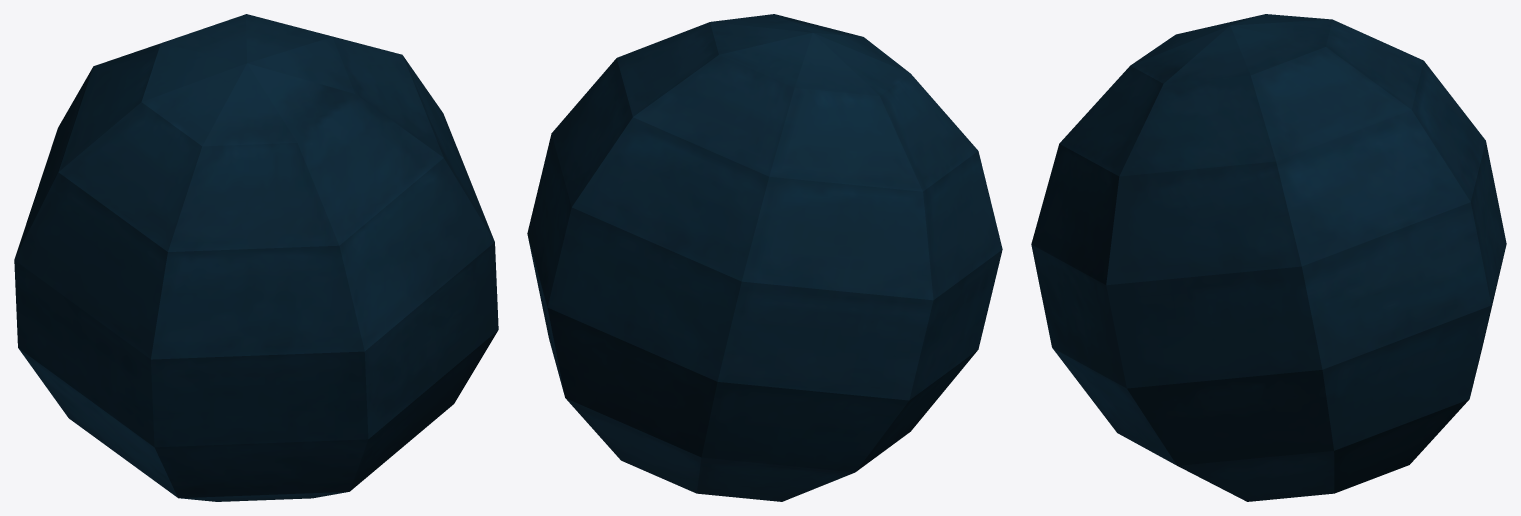
The model's file is Monolith7.fbx.
The picture shows the model from 3 angles, left to right: view 1: azimuth 30°, elevation 25°; view 2: azimuth 150°, elevation 25°; view 3: azimuth 270°, elevation 25°; orthographic projection. The views are drawn at different scales.
Parts seen in each view (by area): view 1: polySurface2; view 2: polySurface2; view 3: polySurface2.
Boxes of the visible parts, x1,y1,x2,y2 form: polySurface2: (14,14,498,501); polySurface2: (527,14,1002,501); polySurface2: (1031,14,1506,501).
Size of the model in its own units: 1.61 by 1.62 by 1.6.
